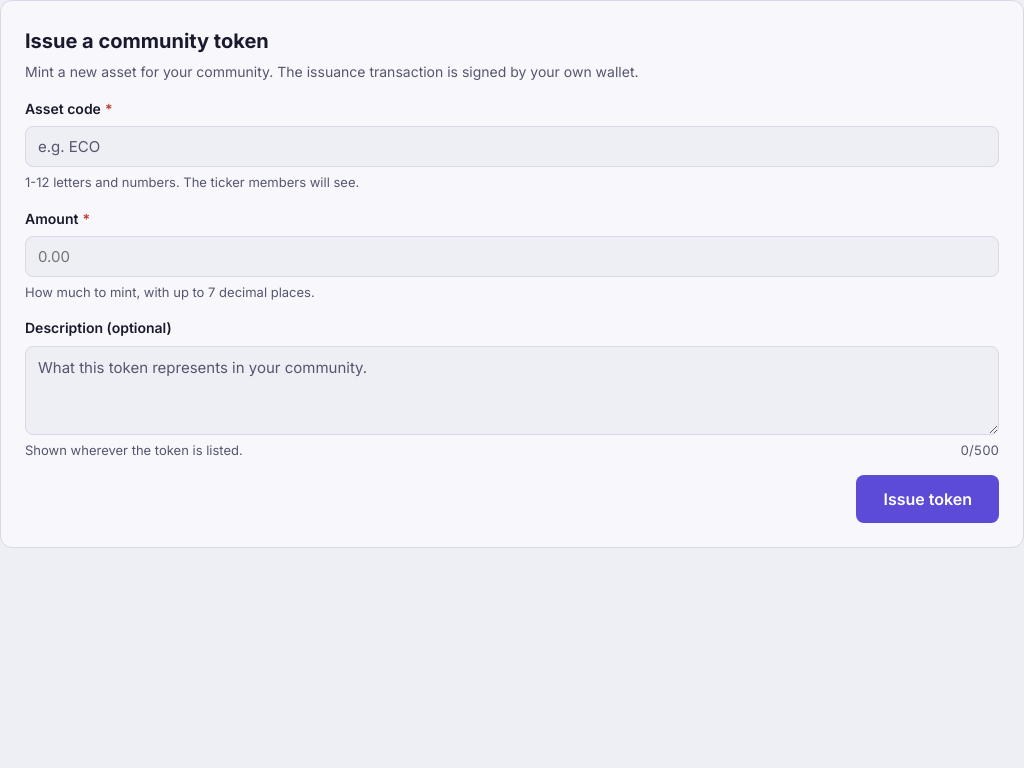
Test: TokenIssuanceForm › validation › rejects a zero amount
In the field labelled "Asset code*": (512, 147) [38,127,986,166], type "ECO"
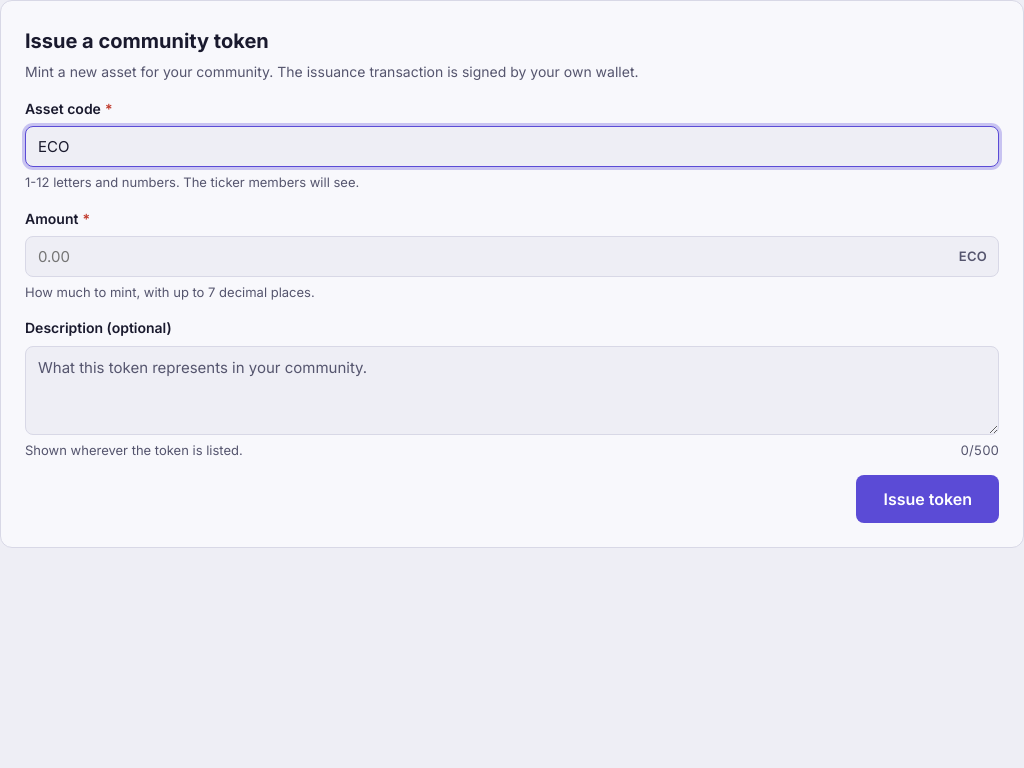
In the field labelled "Amount*": (512, 256) [25,236,999,277], type "0"
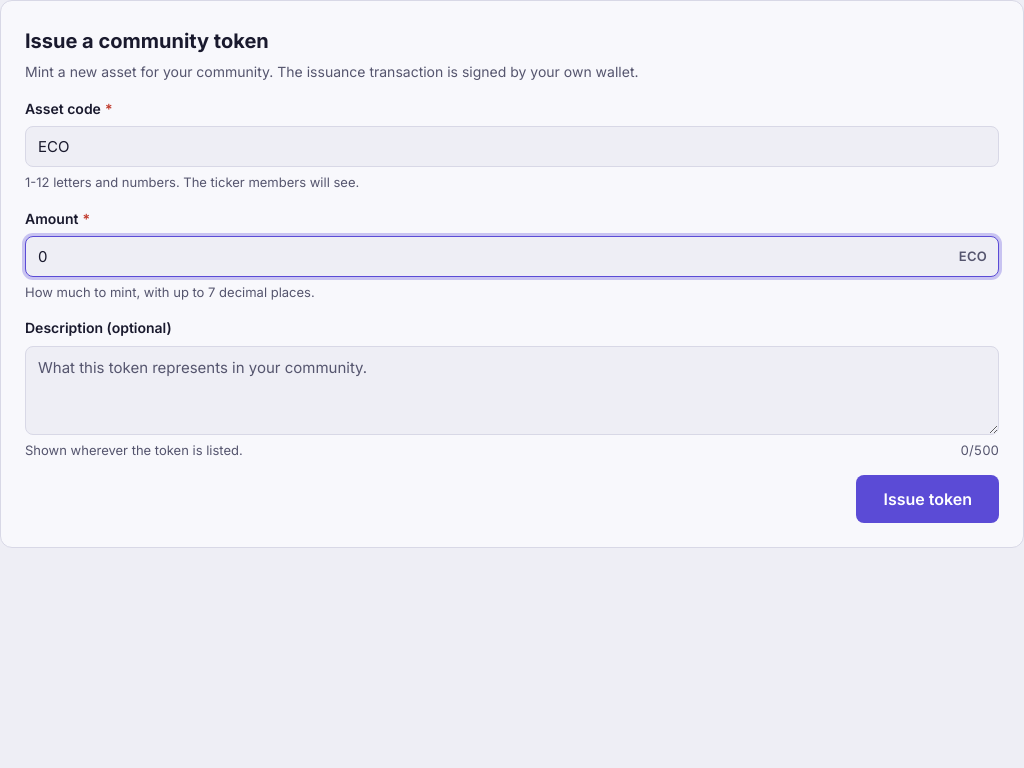
Click the button "Issue token": (928, 499) [856,475,999,523]
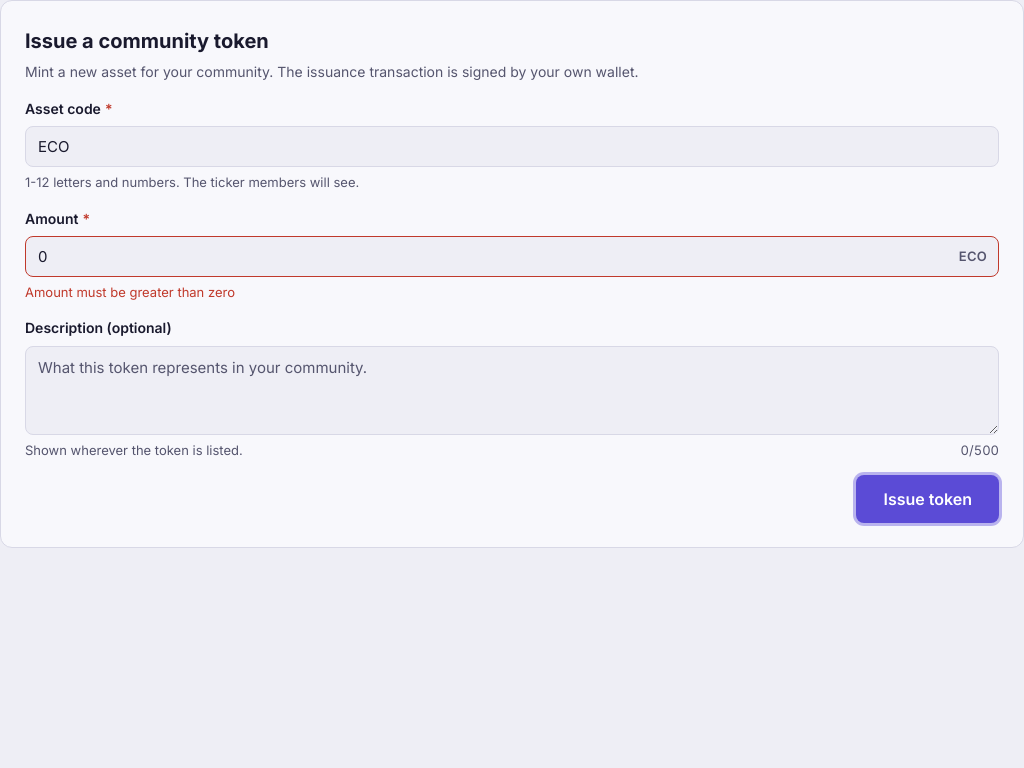
Result: the text "Amount must be greater than zero" is shown at [25,284,235,300]
